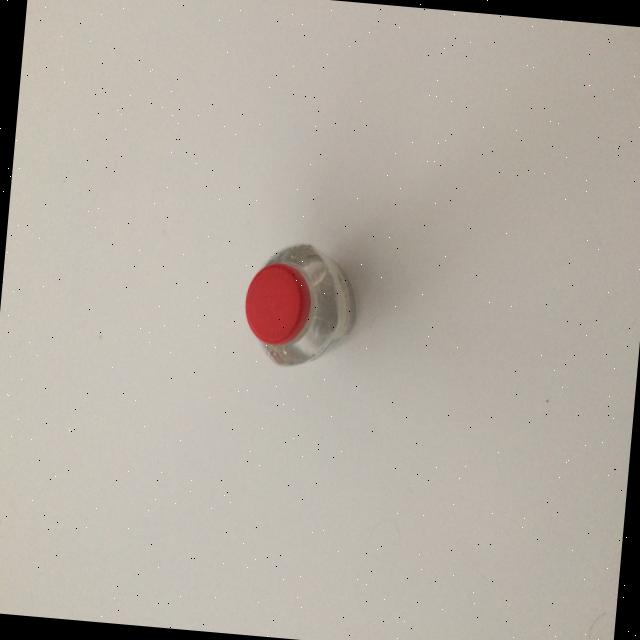plastic: (238, 236, 362, 372)
